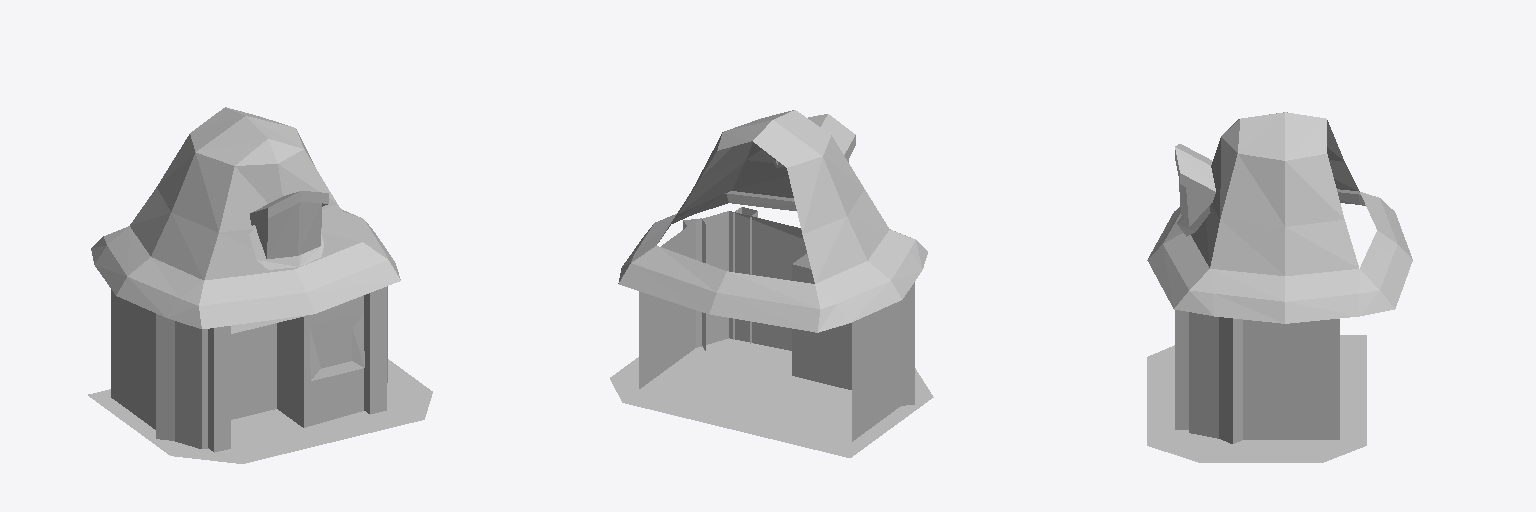
The model's file is Blackthorn City House.obj.
3 renders of one model, left to right at view 1: azimuth 30°, elevation 25°; view 2: azimuth 150°, elevation 25°; view 3: azimuth 270°, elevation 25°, orthographic.
Parts seen in each view (by area): view 1: polygon4, polygon3, polygon1, polygon2, polygon0; view 2: polygon4, polygon3, polygon1, polygon2; view 3: polygon4, polygon3, polygon1, polygon2.
Boxes of the visible parts, x1=… form: polygon4: x1=91, y1=107, x2=400, y2=328; polygon3: x1=111, y1=286, x2=387, y2=452; polygon1: x1=88, y1=359, x2=432, y2=463; polygon2: x1=111, y1=313, x2=364, y2=448; polygon0: x1=321, y1=329, x2=351, y2=368; polygon4: x1=618, y1=110, x2=927, y2=332; polygon3: x1=639, y1=207, x2=914, y2=408; polygon1: x1=610, y1=338, x2=933, y2=457; polygon2: x1=639, y1=313, x2=900, y2=441; polygon4: x1=1147, y1=112, x2=1412, y2=323; polygon3: x1=1175, y1=310, x2=1339, y2=443; polygon1: x1=1147, y1=335, x2=1366, y2=462; polygon2: x1=1189, y1=400, x2=1339, y2=439.
Size of the model in its own units: 72 by 70.25 by 60.5.